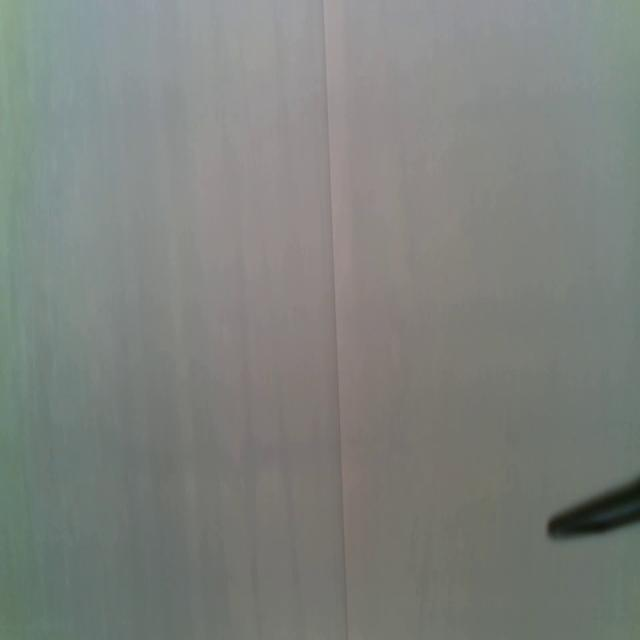crease: (322, 0, 350, 640)
